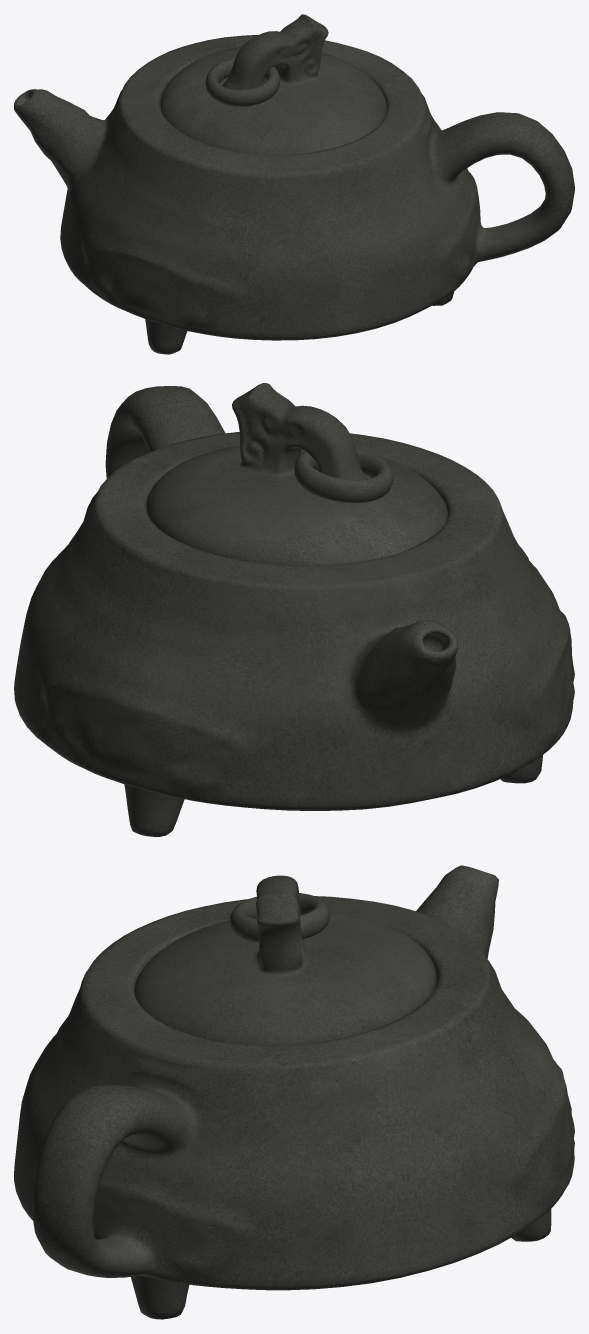
File: fangguhu.obj
The picture shows the model from 3 angles, top to bottom: view 1: azimuth 30°, elevation 25°; view 2: azimuth 150°, elevation 25°; view 3: azimuth 270°, elevation 25°; orthographic projection. The views are drawn at different scales.
Visible parts, largest first — view 1: ____001, __________________; view 2: ____001, __________________; view 3: ____001, __________________.
Boxes of the visible parts, box(x1,y1,x2,y2) form: ____001: box(14, 35, 574, 354); __________________: box(160, 14, 386, 154); ____001: box(14, 386, 574, 836); __________________: box(146, 383, 447, 565); ____001: box(14, 865, 574, 1319); __________________: box(134, 875, 436, 1045).
Size of the model in its own units: 149 by 95.36 by 133.
4 materials, 4 textured.
